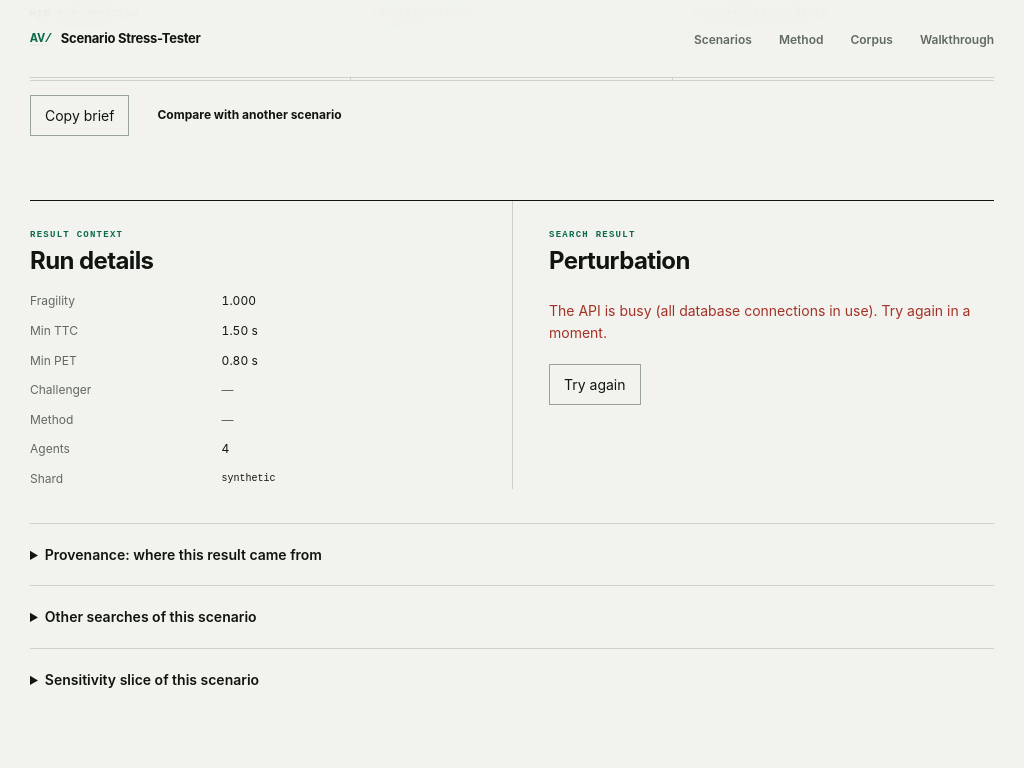
retry after a failed request, without reloading › on the perturbation vector
(page scrolled)
Expected: the message "The API is busy (all database connections in use). Try again in a moment." is shown, x1=549 y1=292 x2=994 y2=352
Click the button "Try again" at (595, 385), box x1=549 y1=364 x2=640 y2=406
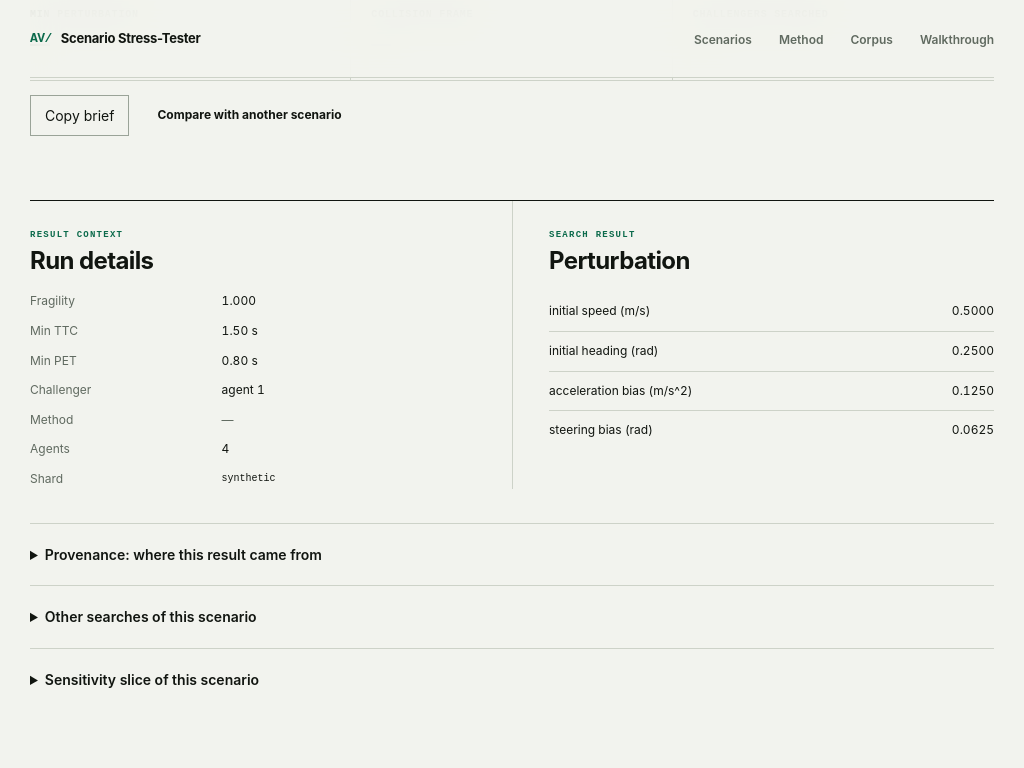
Now the column heading "initial speed (m/s)" is shown, box x1=549 y1=292 x2=875 y2=332
